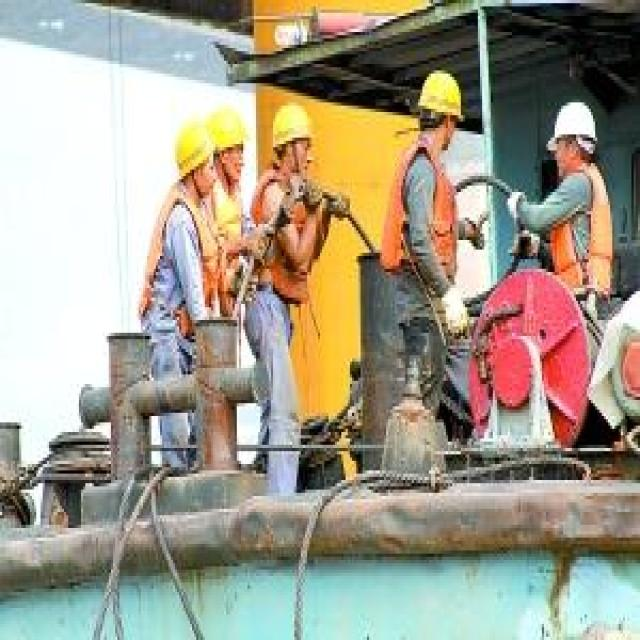helmet: (415, 81, 468, 218), (171, 146, 224, 278), (205, 124, 250, 273), (549, 124, 602, 244), (269, 137, 316, 248)
